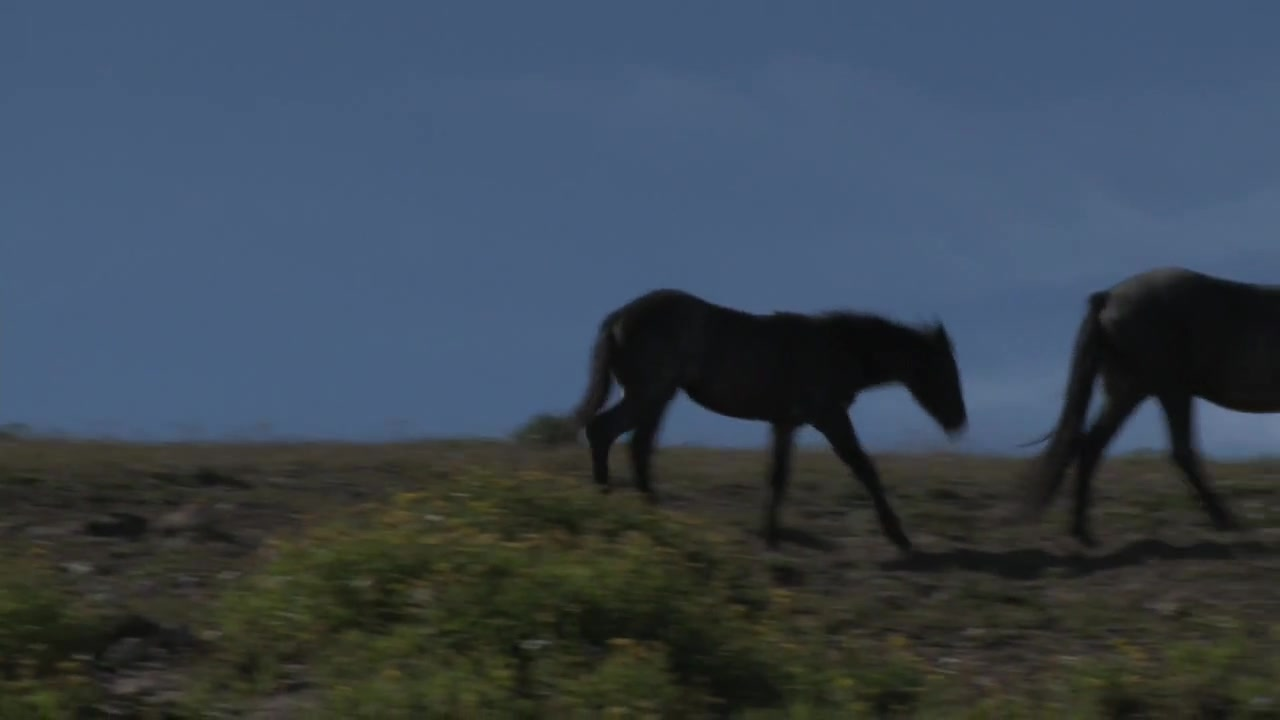horse: (555, 285, 972, 549), (1009, 266, 1280, 542)
